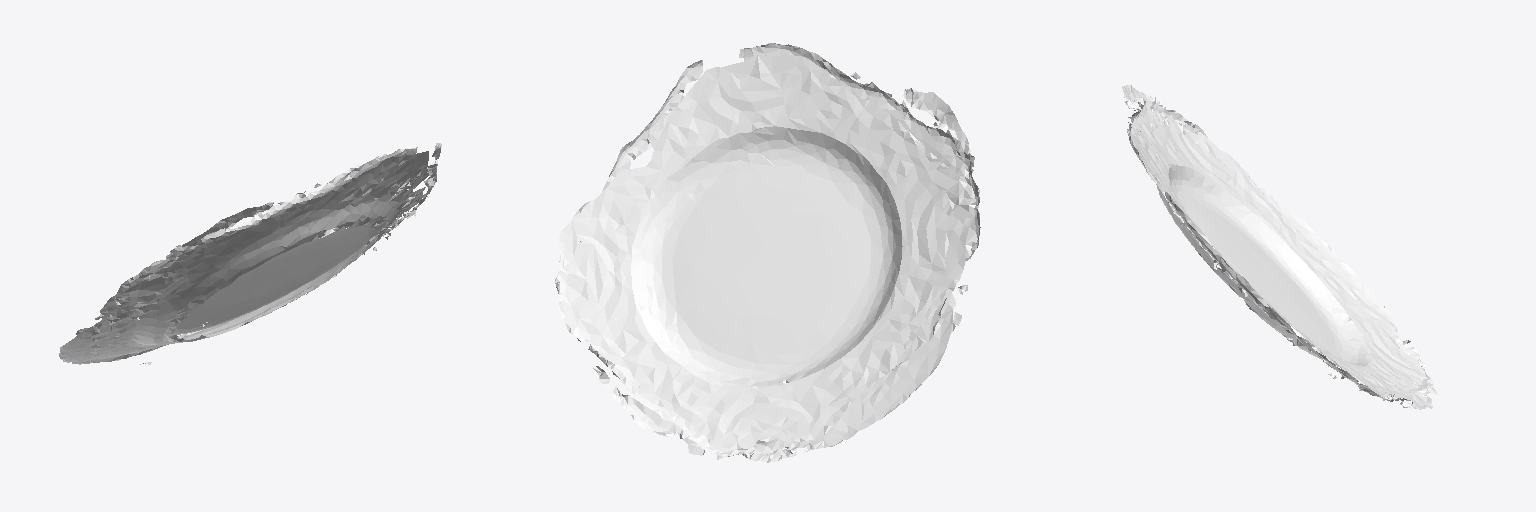
File: plate.obj
3 renders of one model, left to right at view 1: azimuth 30°, elevation 25°; view 2: azimuth 150°, elevation 25°; view 3: azimuth 270°, elevation 25°, orthographic.
Bounding box in the file's own units: 218 × 161 × 161.